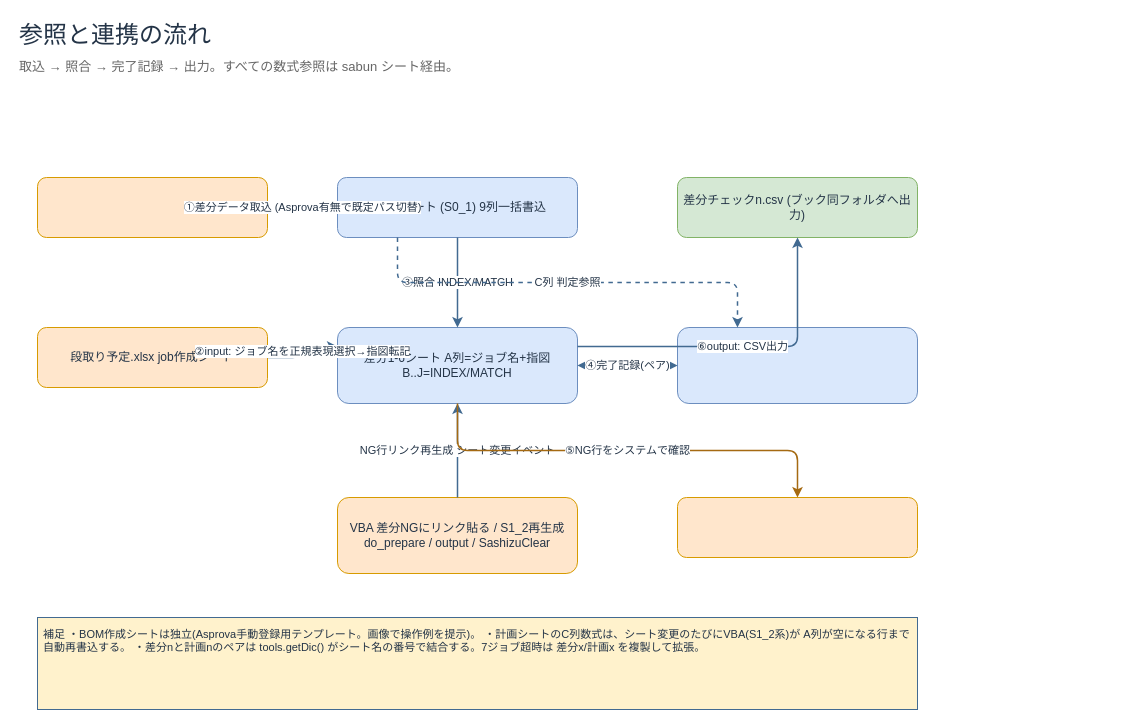
Some shapes in this 1134 by 727 pixel diagram are drawn without their labels. The shapes that lost their labels are listed below. From the top down, each one's centre as x and y in pixels, then its label:
point (152, 207): sabun.csv (差分チェックシステム由来)
point (797, 365): 計画1-6シート A=指図 B=完了日時 C=はい/いいえ
point (797, 527): 差分チェックシステム sashizu.cgi
